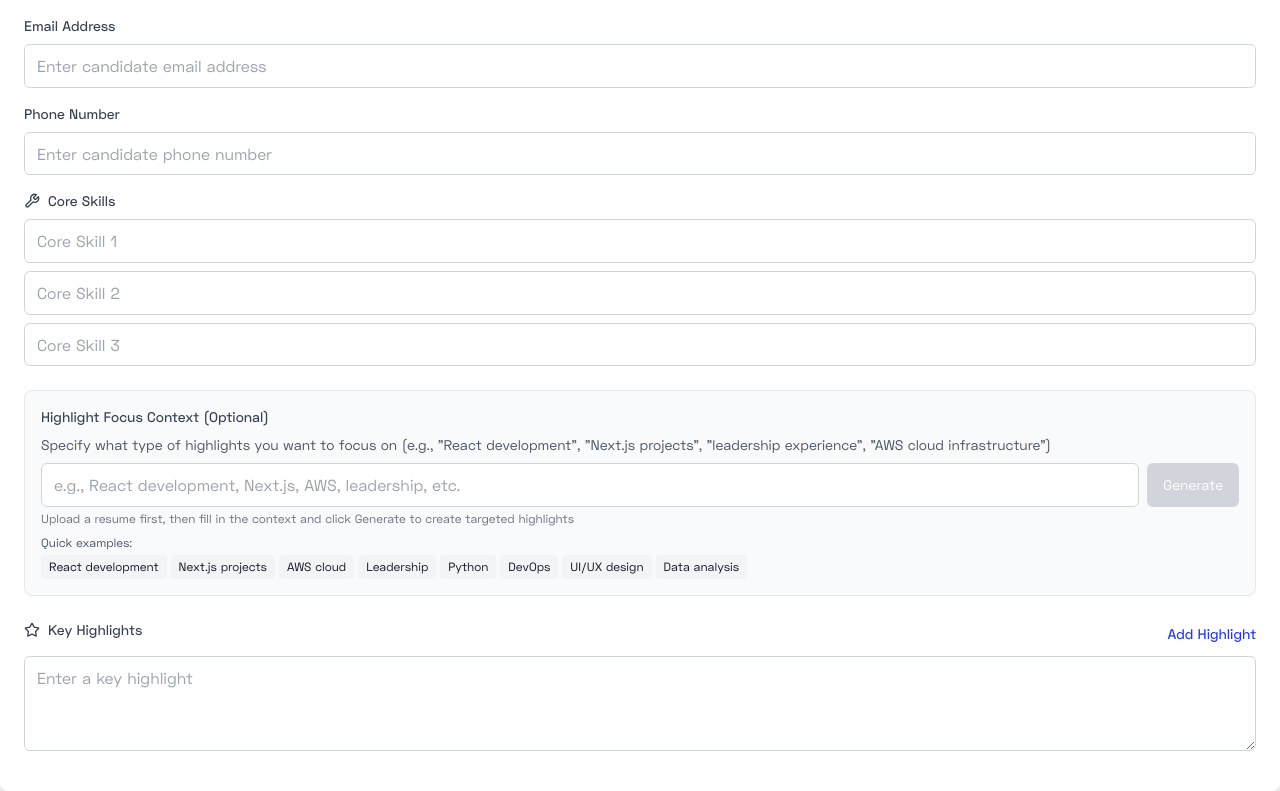
Test case: ProfileForm Component › sets context when quick example is clicked
(page scrolled)
What coordinates should you click on to do the following:
click the button "React development"
I would click on:
 (104, 567)
Its box is [41,555,167,579].
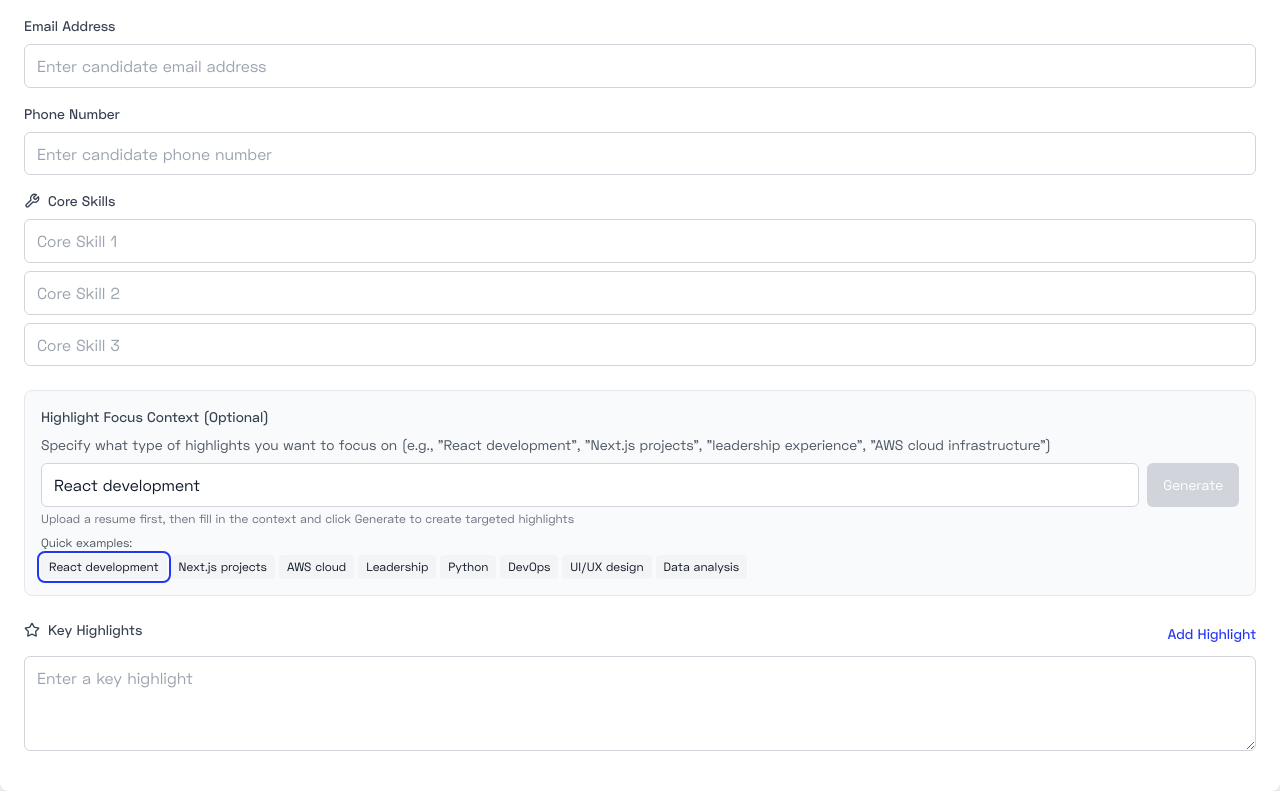
Check: the field with test id "context-input" holds "React development", box [41,463,1139,507]
